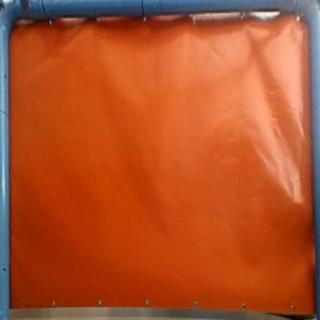Hit-hRxx: (290, 193, 302, 209)
